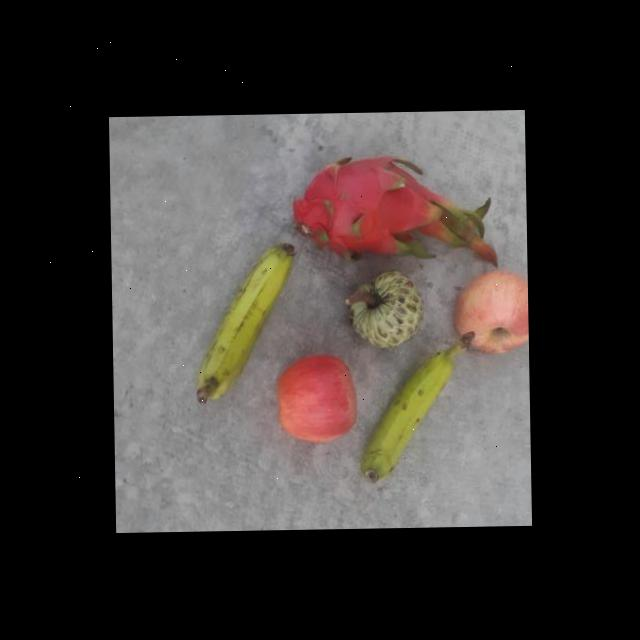Sakya fruit: (342, 266, 426, 347)
apple: (273, 349, 360, 444), (450, 267, 529, 355)
banana: (356, 328, 477, 482), (189, 238, 299, 404)
pitaya: (286, 149, 450, 263)
